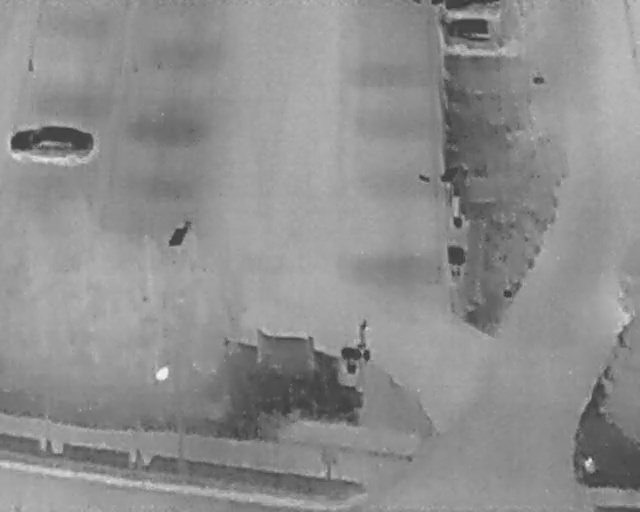Car: (7, 121, 96, 163), (439, 13, 515, 53)
